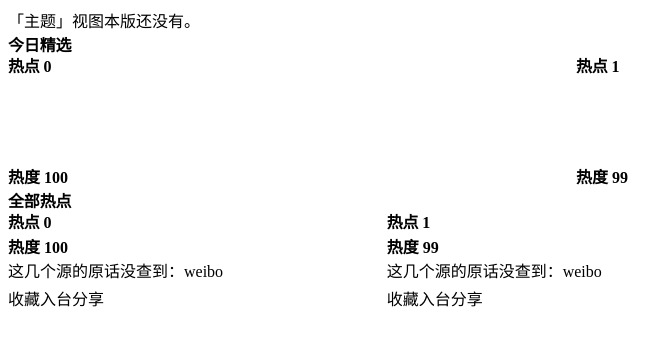
PLAZA-04 卡片三动作 › 一张卡的答复 NEVER 显示到另一张卡上
Step 1. Click the 1st button with test id "action-favorite" → [24, 298], box left=8, top=282, right=40, bottom=314
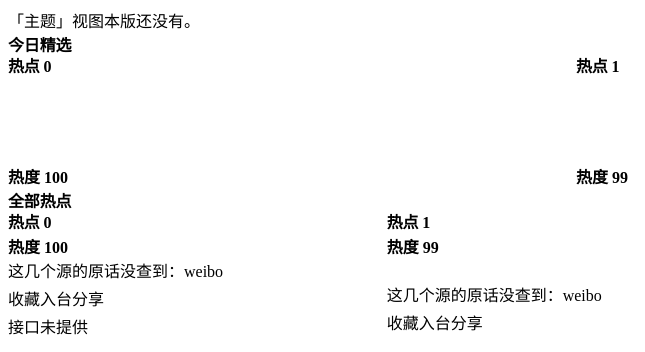
Now the message "接口未提供" is shown, box left=8, top=319, right=88, bottom=336
